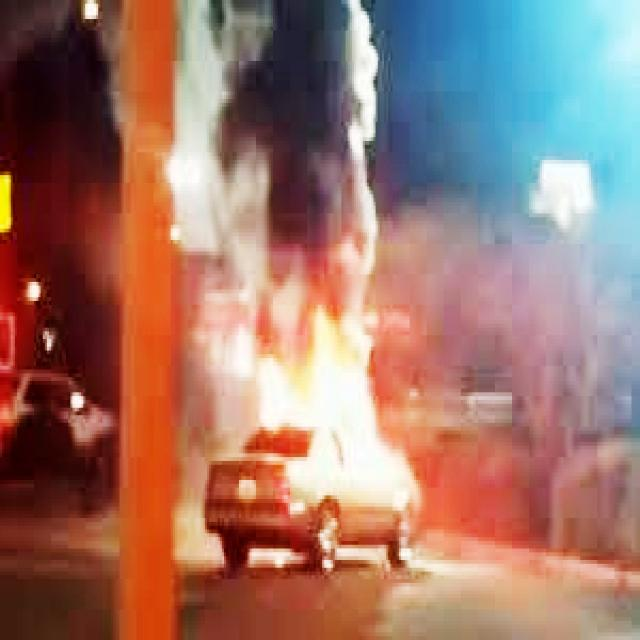api: (234, 310, 419, 512)
